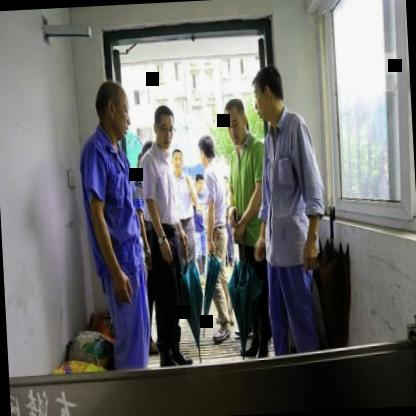head: (92, 78, 132, 142), (250, 63, 286, 125), (221, 92, 249, 146), (149, 100, 178, 151), (194, 131, 218, 170), (172, 145, 186, 177), (194, 170, 206, 197)
